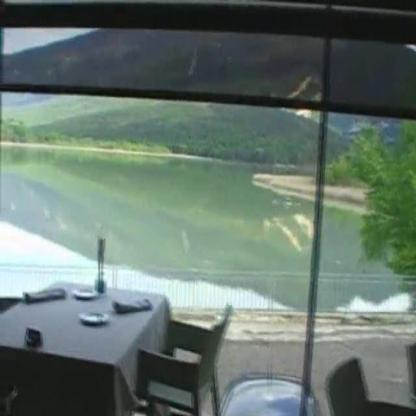other: (1, 218, 50, 260)
